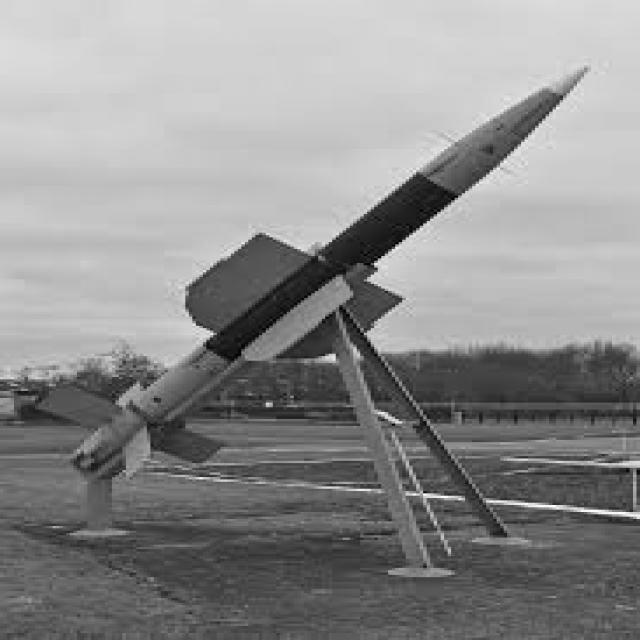Missile: (1, 0, 616, 548)
